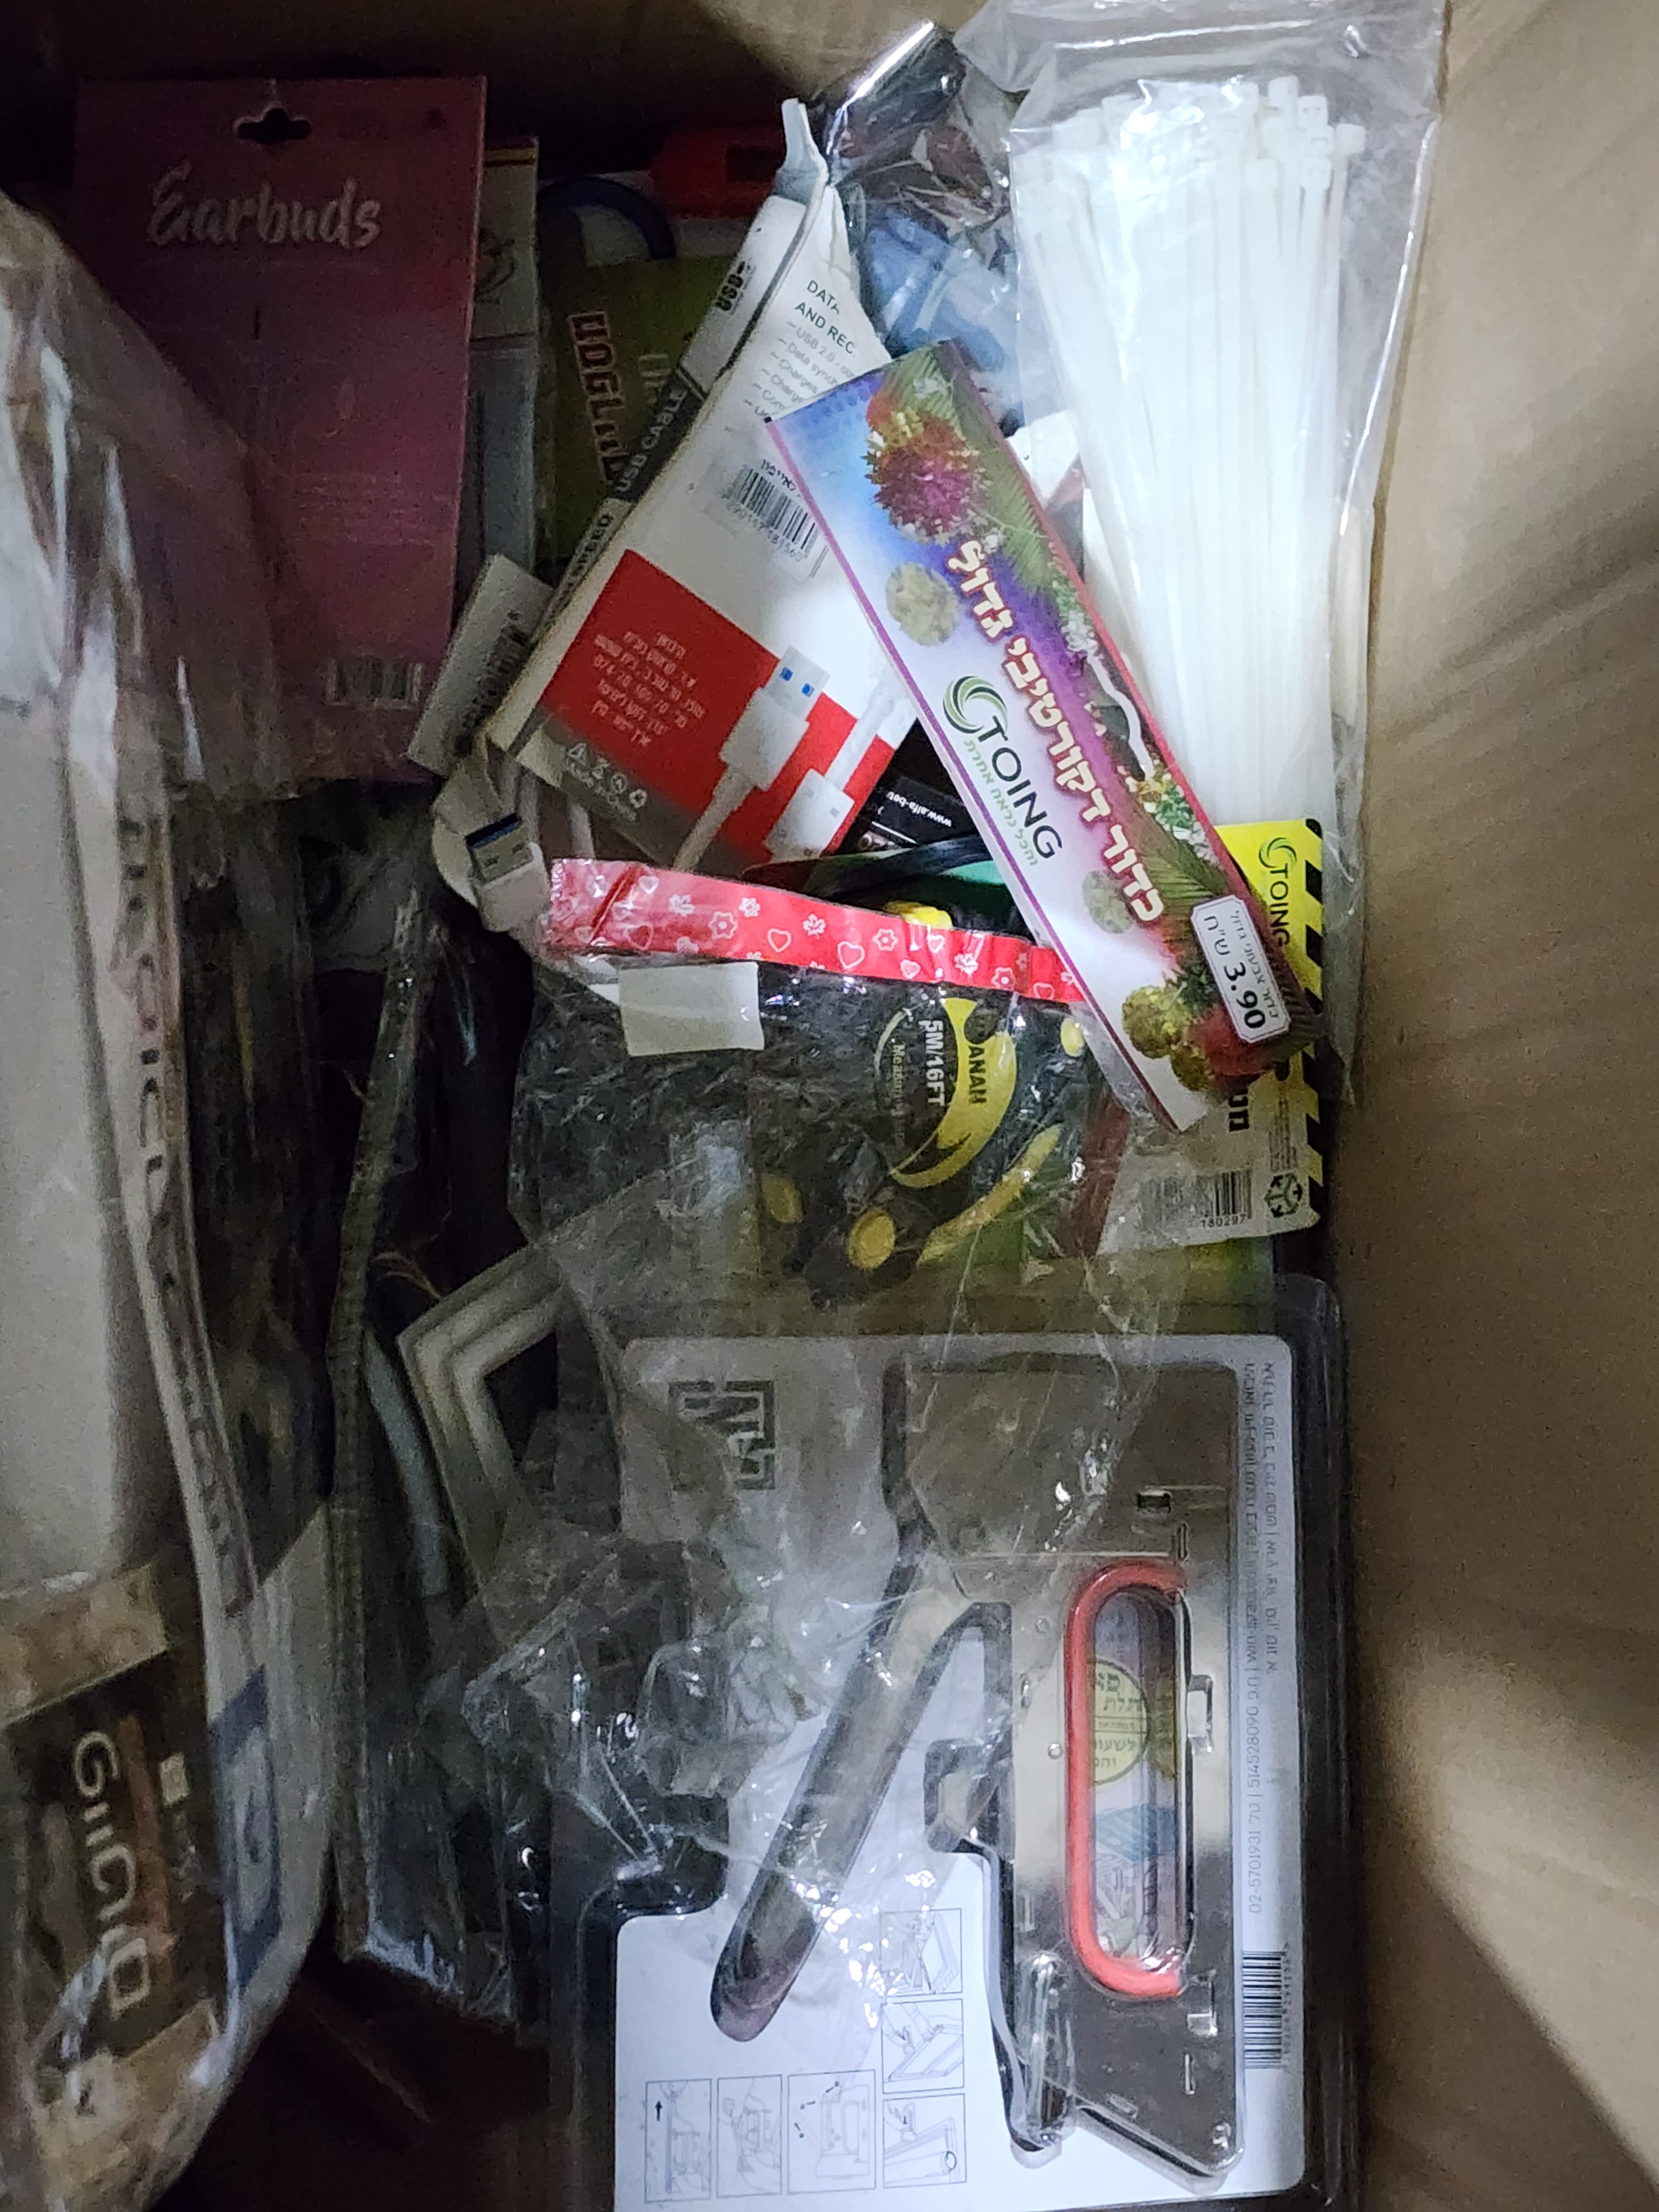other: (610, 1298, 1417, 2212), (782, 352, 1312, 1136)
